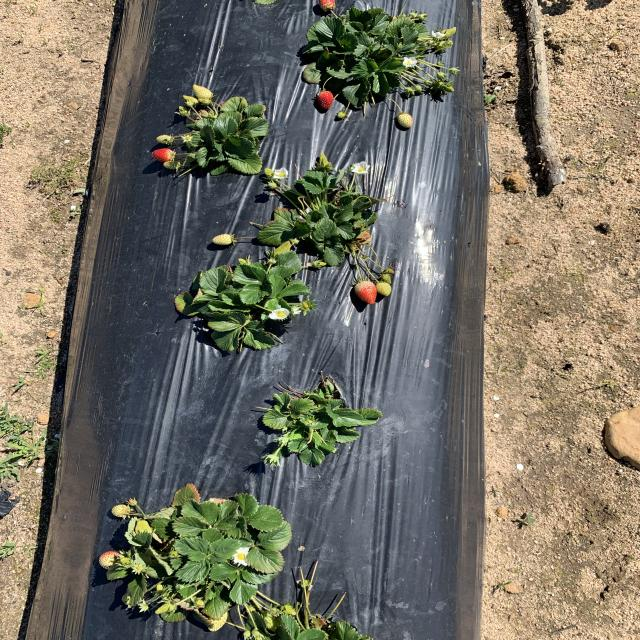unripe: (357, 279, 376, 305), (315, 91, 335, 109), (152, 148, 176, 162), (318, 0, 337, 11)
